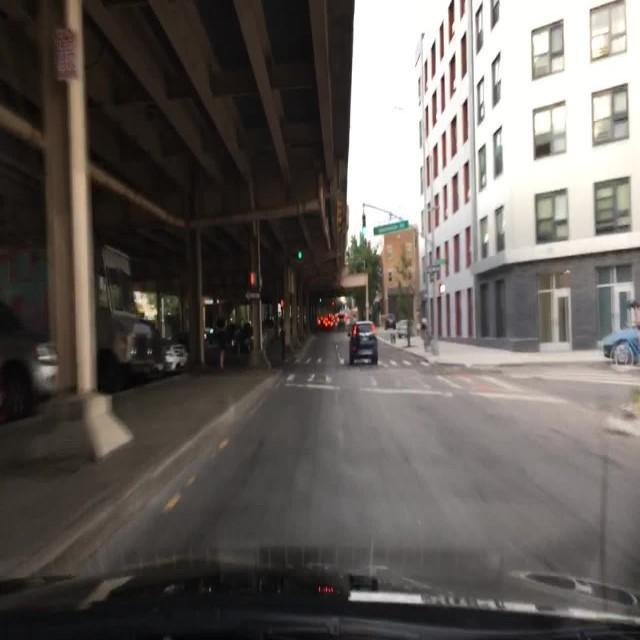normal: (0, 299, 58, 423), (599, 328, 640, 366), (347, 322, 379, 366)
